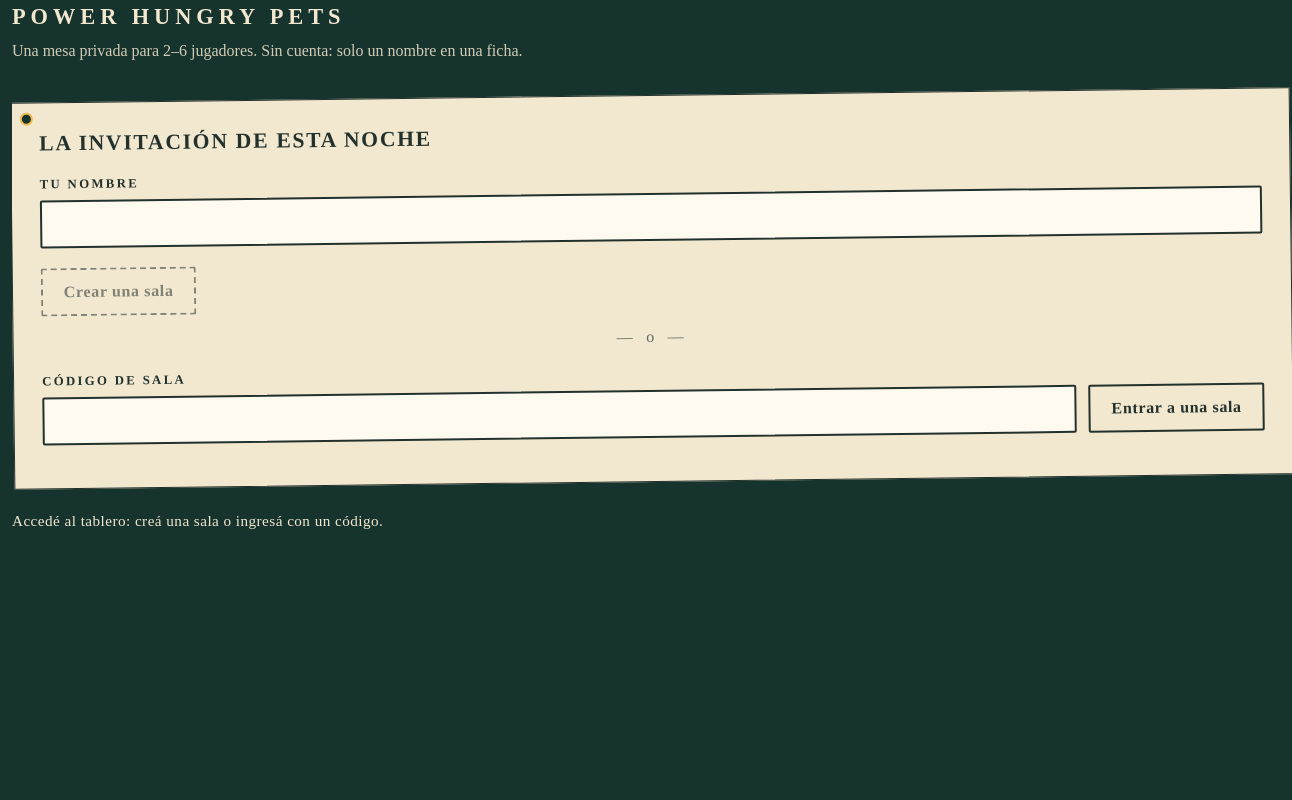
HomeInvitation › rejects a malformed code with inline text, before any navigation
Type "AB1" into the field labelled "Código de sala" at (560, 415), box [42,385,1077,446]
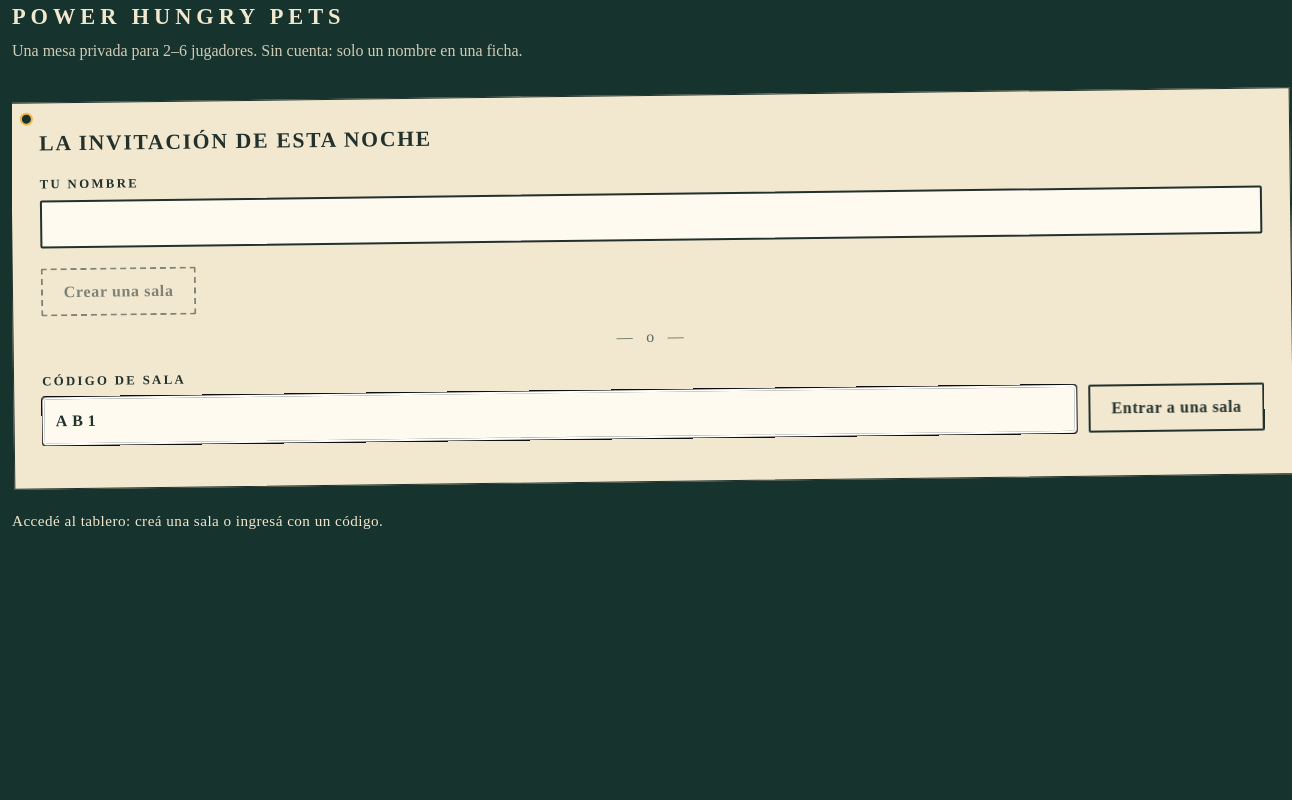
Click the button "Entrar a una sala" at (1177, 408), box [1088,383,1265,433]
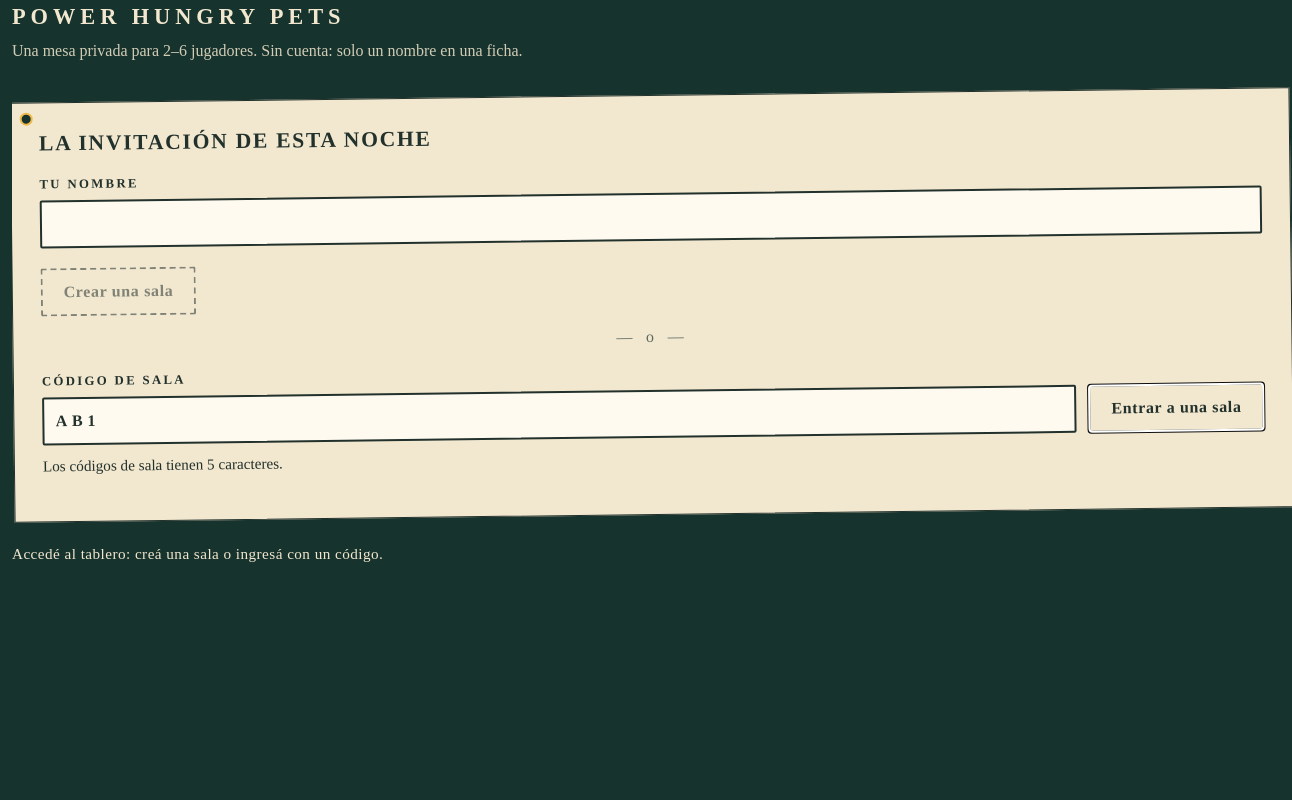
Expected: the text "Los códigos de sala tienen 5 caracteres." is shown, [43,454,283,474]
